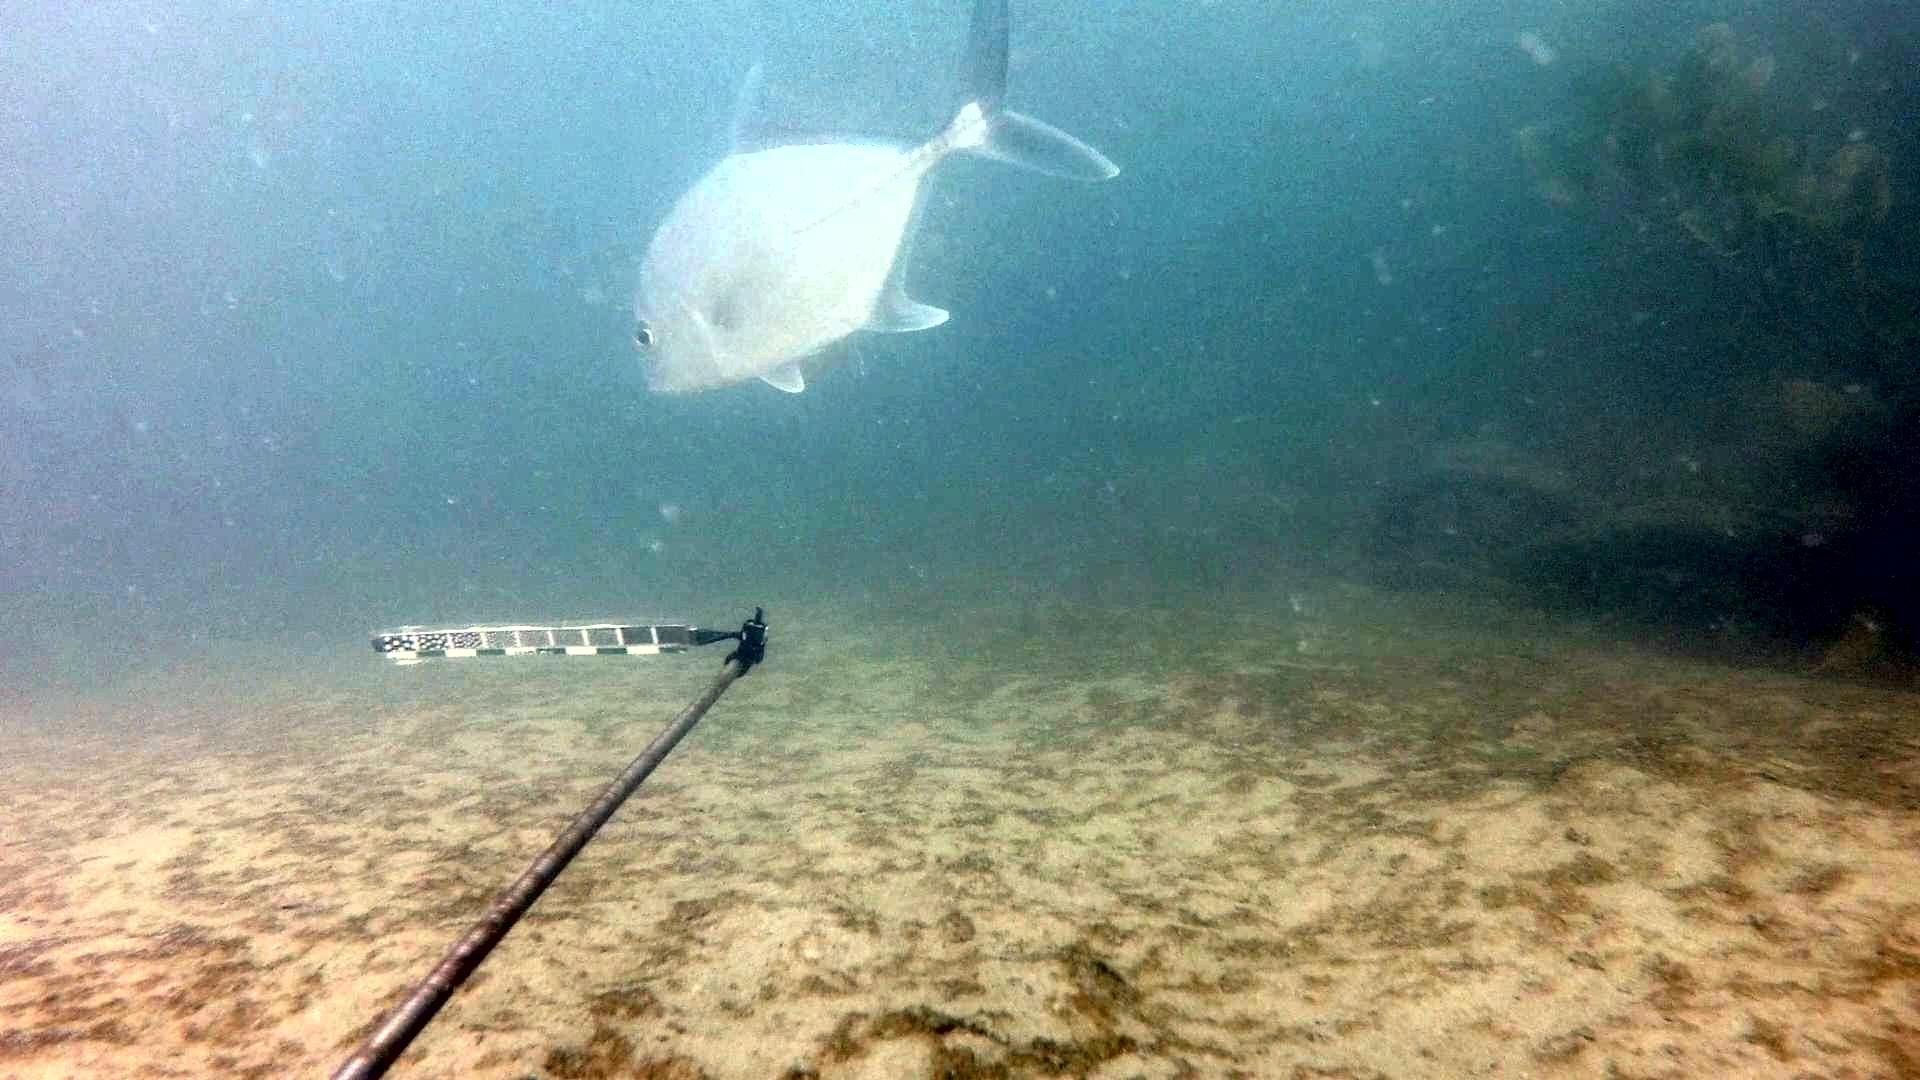caranx: (624, 0, 1126, 415)
